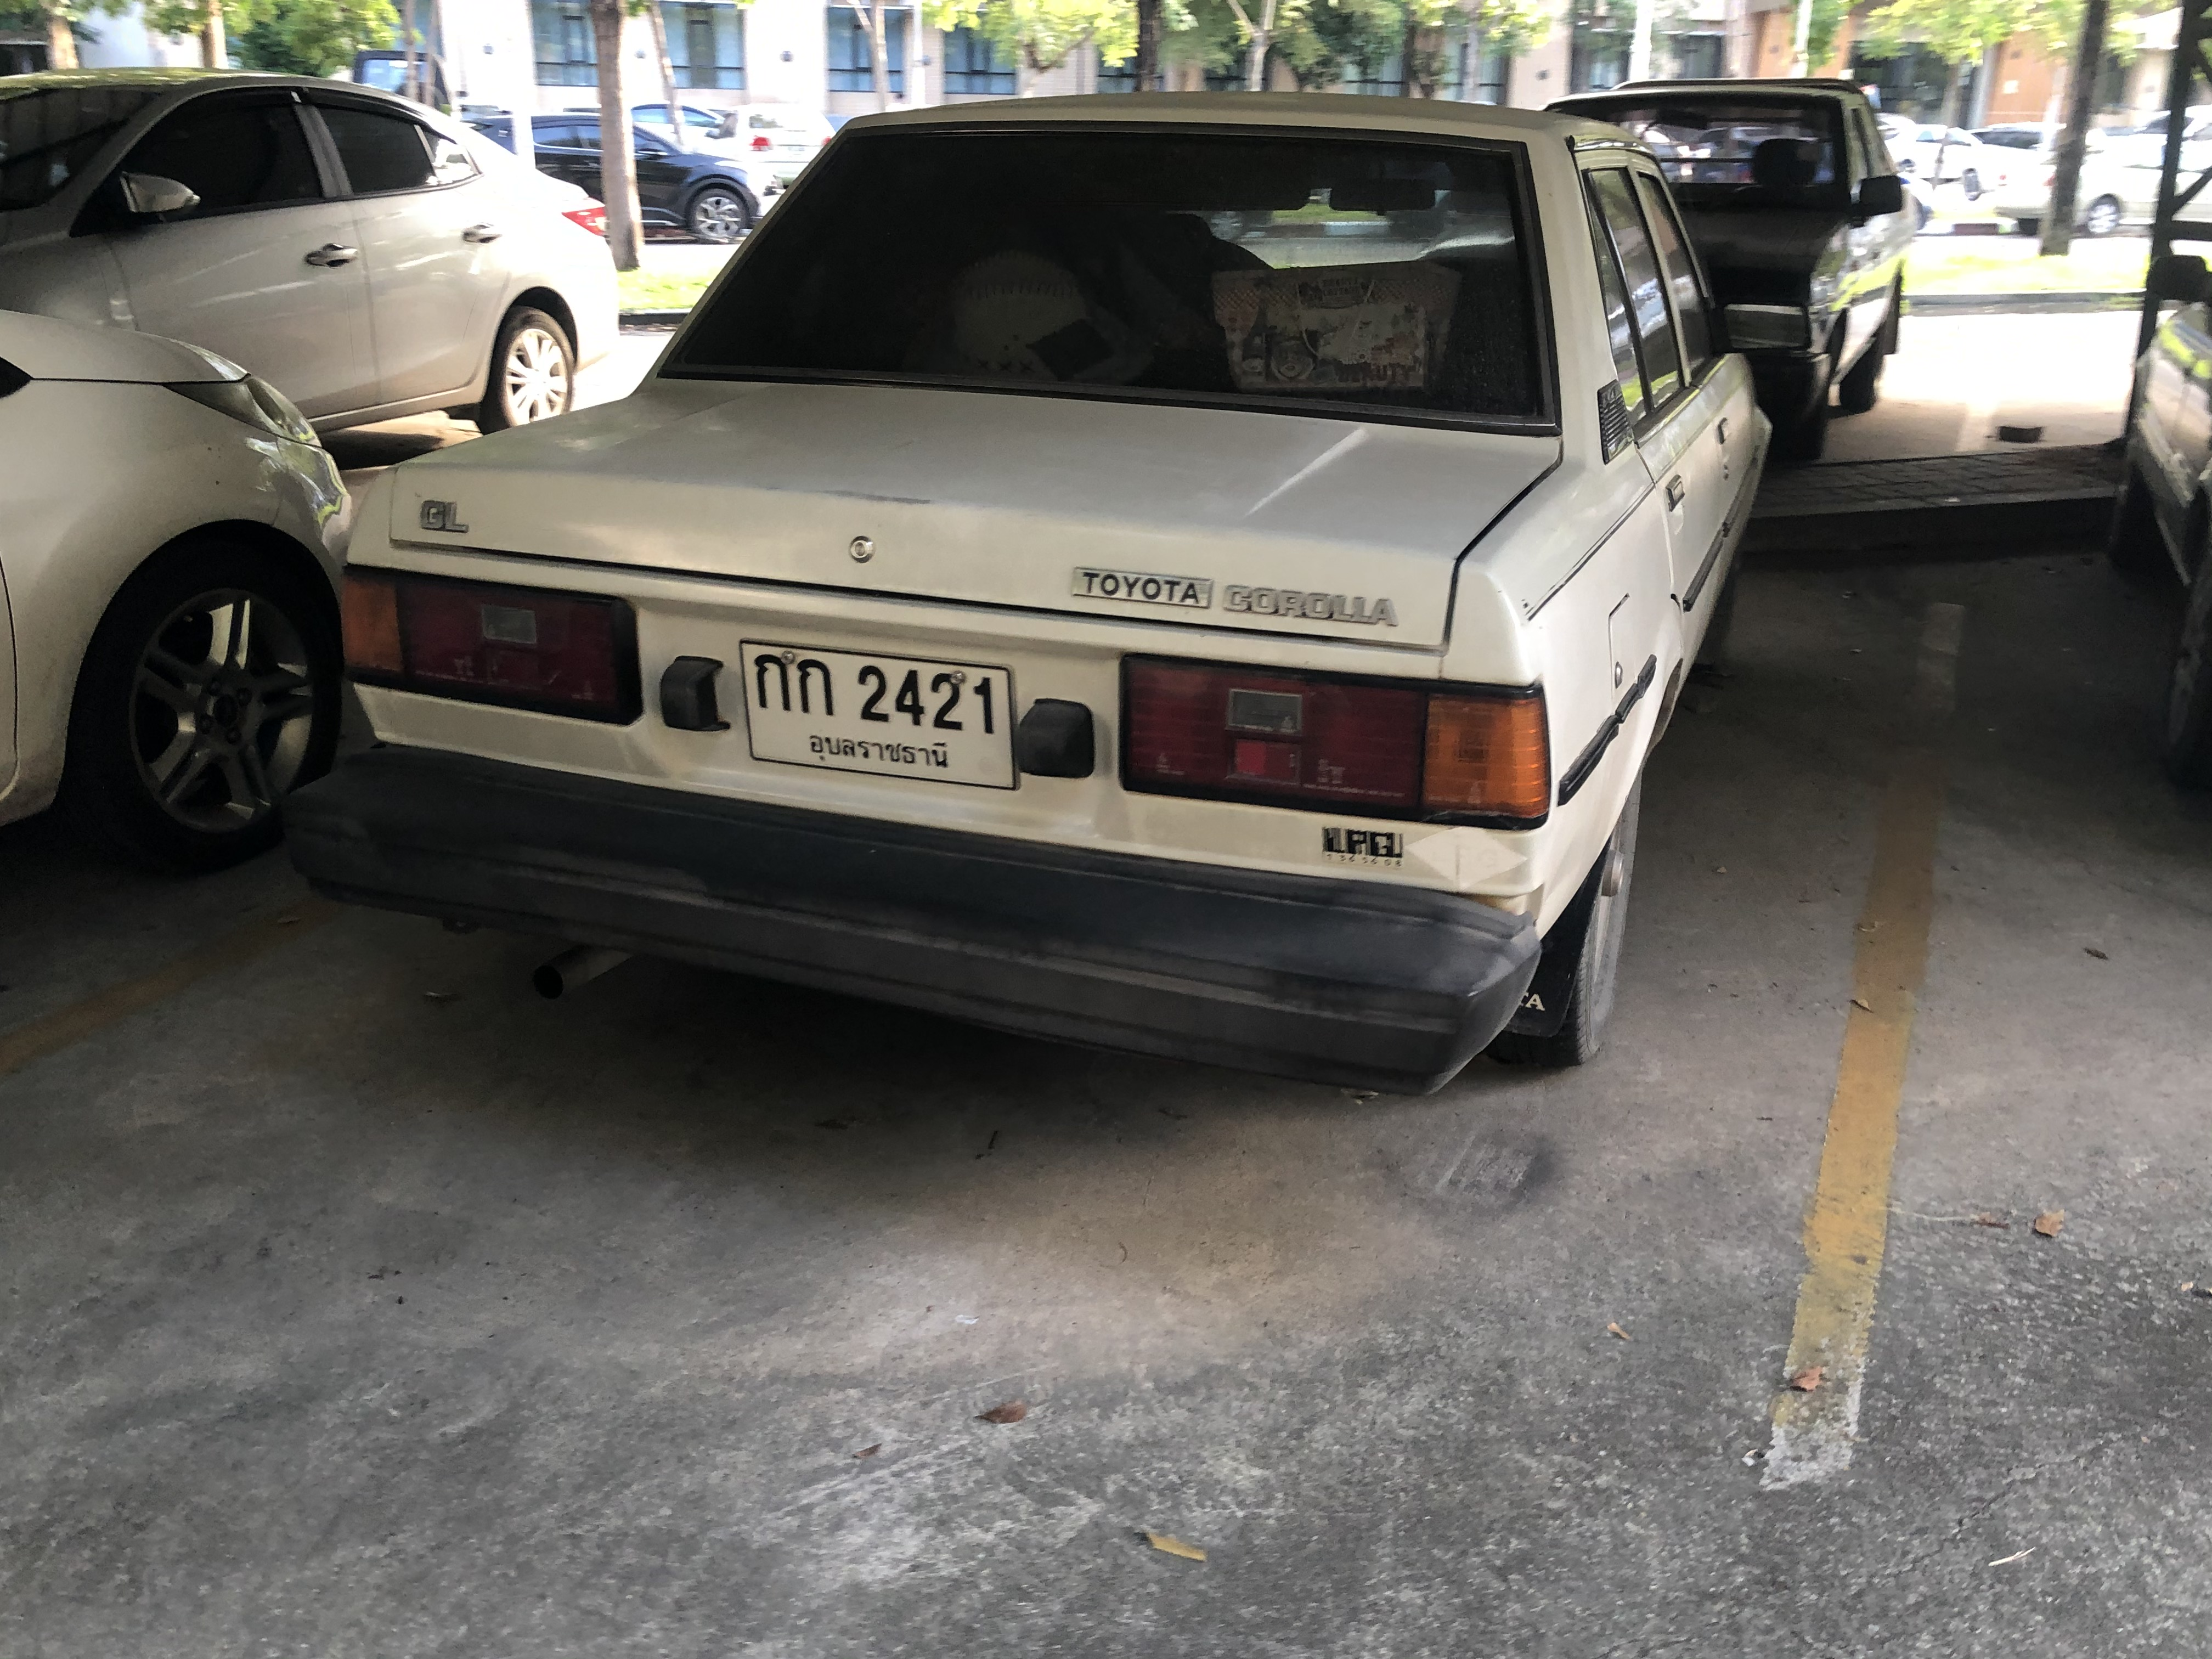in: (742, 640, 1019, 786)
